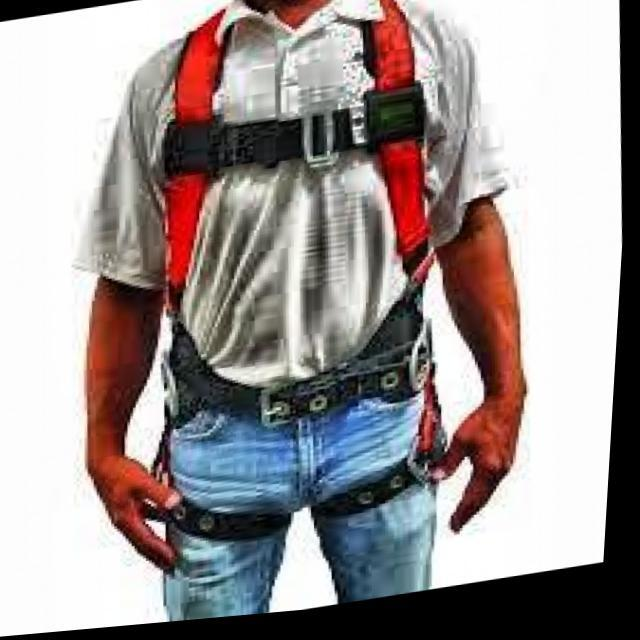belt: (120, 0, 480, 560)
